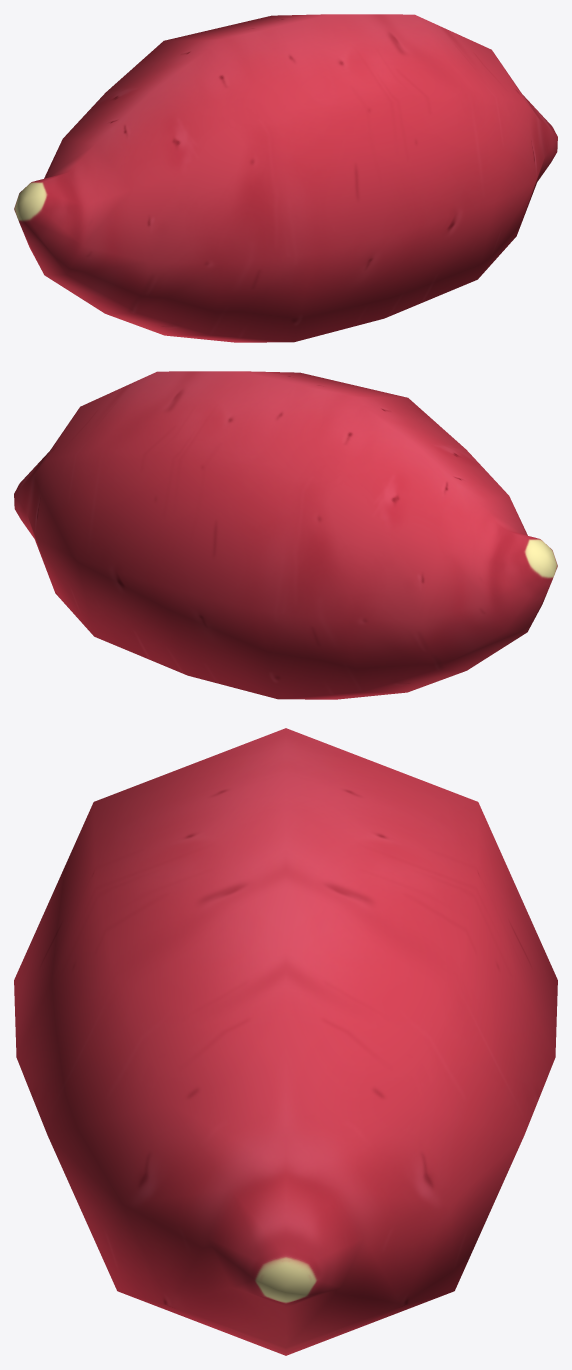
The model's file is ENV1810028.fbx.
The picture shows the model from 3 angles, top to bottom: view 1: azimuth 30°, elevation 25°; view 2: azimuth 150°, elevation 25°; view 3: azimuth 270°, elevation 25°; orthographic projection. The views are drawn at different scales.
Visible parts, largest first — view 1: smENV1810028; view 2: smENV1810028; view 3: smENV1810028.
Boxes of the visible parts, x1,y1,x2,y2 form: smENV1810028: (14,14,557,342); smENV1810028: (14,371,557,699); smENV1810028: (14,728,557,1355).
Bounding box in the file's own units: 16.87 × 9.21 × 9.23.
Materials: 1 (1 with a texture image).
